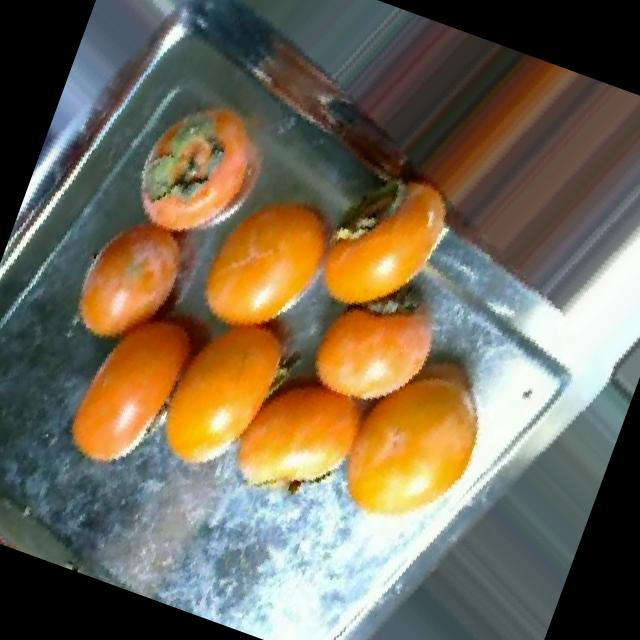Fruit: (290, 134, 487, 358), (172, 157, 360, 370), (48, 176, 221, 378), (38, 304, 207, 499)
